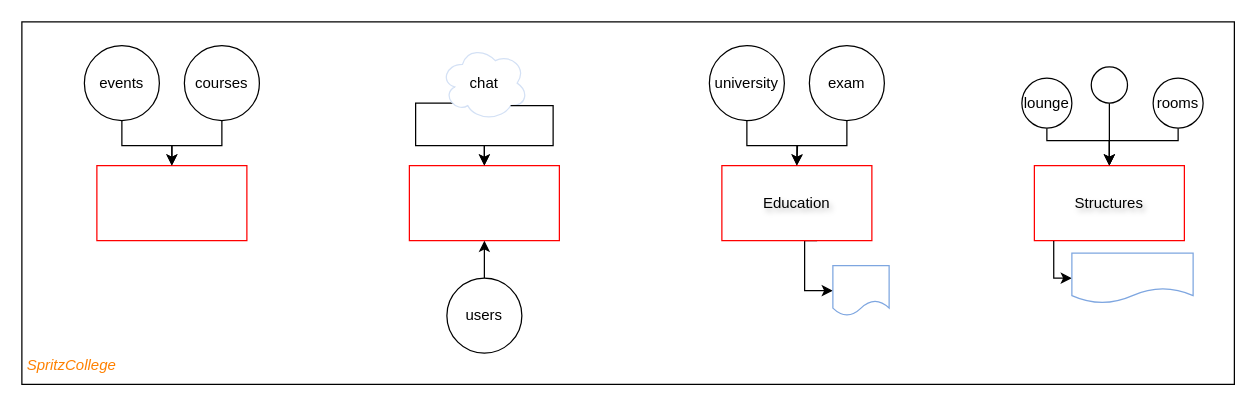
Image size: 1256x406. Some labels were removed from this diagram. Here are the shapes that lost their labels. From the top down, the box of each, then its label:
(1090, 66, 1128, 103): hall
(96, 164, 247, 241): Activities
(408, 164, 559, 241): Profiles
(832, 264, 889, 316): report
(1071, 252, 1193, 303): maintenance interventions
